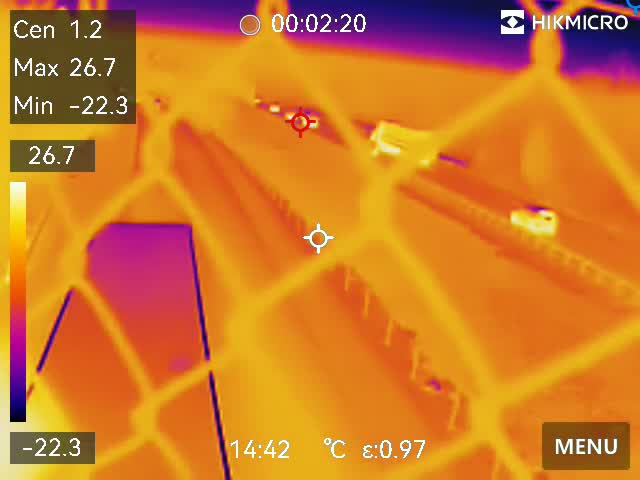heavyTruck: (30, 208, 233, 480), (361, 118, 436, 165)
vehicle: (507, 201, 557, 234)
